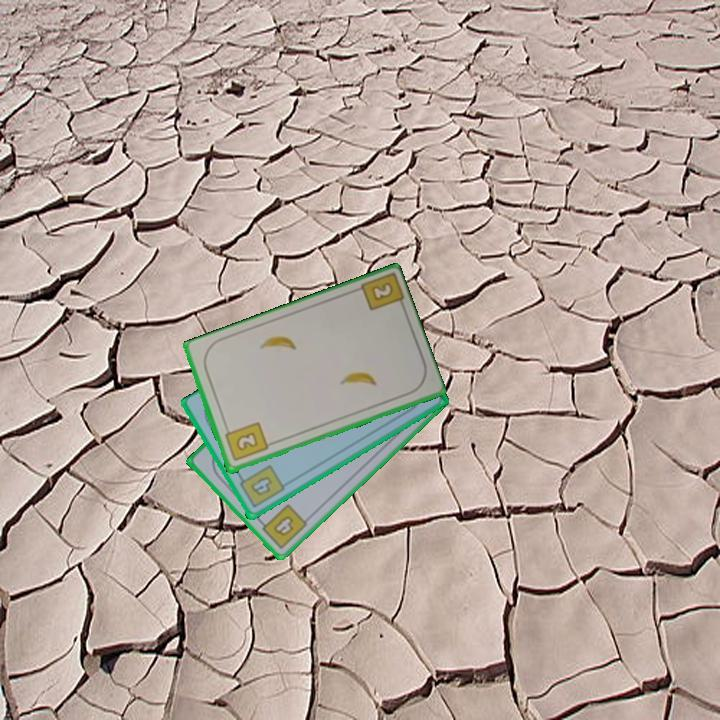2b: (221, 419, 270, 464), (367, 279, 396, 304)
4b: (255, 501, 310, 552), (235, 462, 287, 511)
